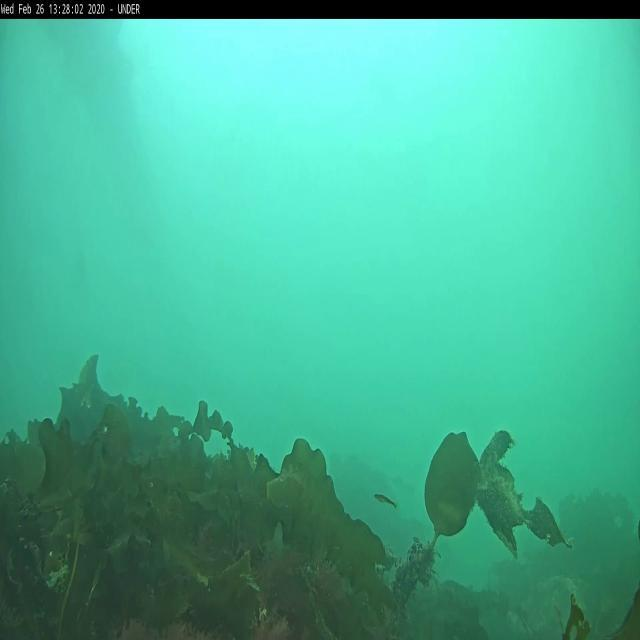fish: (373, 490, 396, 507)
